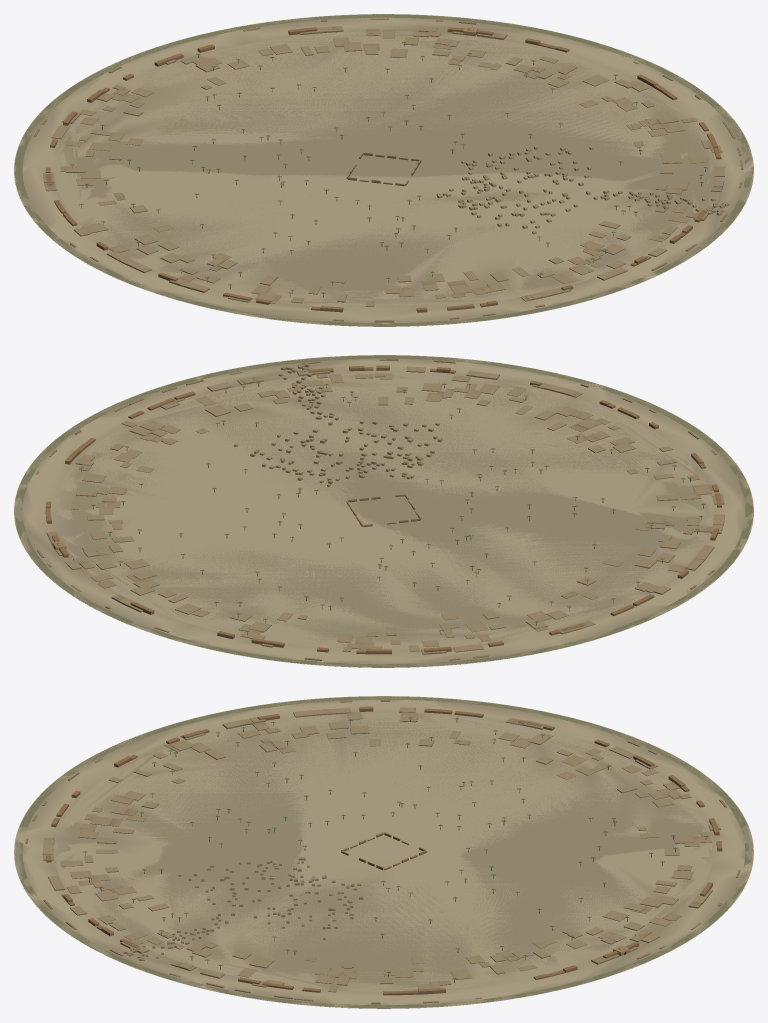
File: round-city-1200.glb
3 renders of one model, top to bottom at view 1: azimuth 30°, elevation 25°; view 2: azimuth 150°, elevation 25°; view 3: azimuth 270°, elevation 25°, orthographic.
Visible parts, largest first — view 1: p0_ground, p1_ruined walls, p2_quarter, p3_gardens; view 2: p0_ground, p1_ruined walls, p2_quarter, p3_gardens; view 3: p0_ground, p1_ruined walls, p2_quarter, p3_gardens.
Boxes of the visible parts, x1,y1,x2,y2 form: p0_ground: (14,14,753,326); p1_ruined walls: (34,18,743,322); p2_quarter: (346,146,729,234); p3_gardens: (70,42,707,294); p0_ground: (14,355,753,667); p1_ruined walls: (36,358,724,660); p2_quarter: (234,363,442,526); p3_gardens: (79,382,705,632); p0_ground: (14,696,753,1008); p1_ruined walls: (25,700,740,1004); p2_quarter: (123,832,426,960); p3_gardens: (83,717,707,980).
Bounding box in the file's own units: 2400 × 17.63 × 2400.
